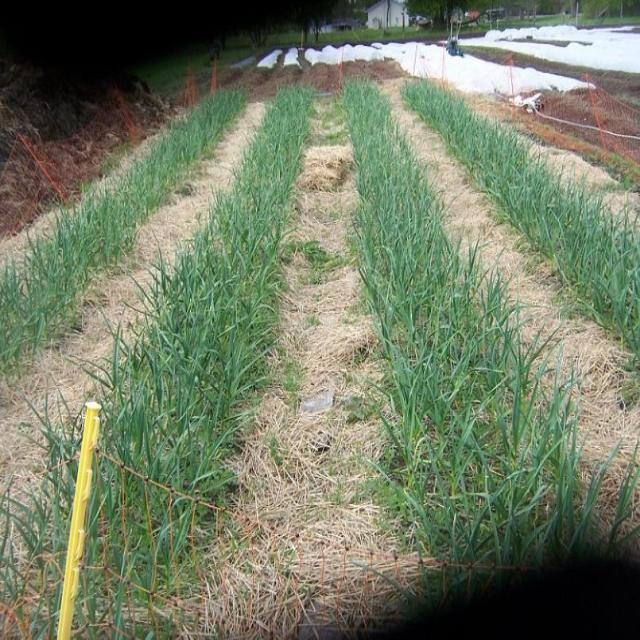row: (191, 89, 448, 640), (378, 78, 640, 604), (5, 98, 274, 572)
